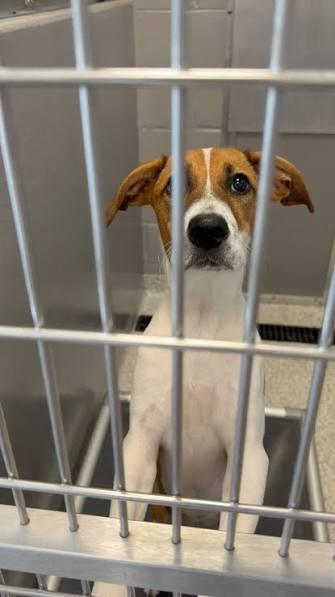adult_dog: (103, 143, 316, 545)
